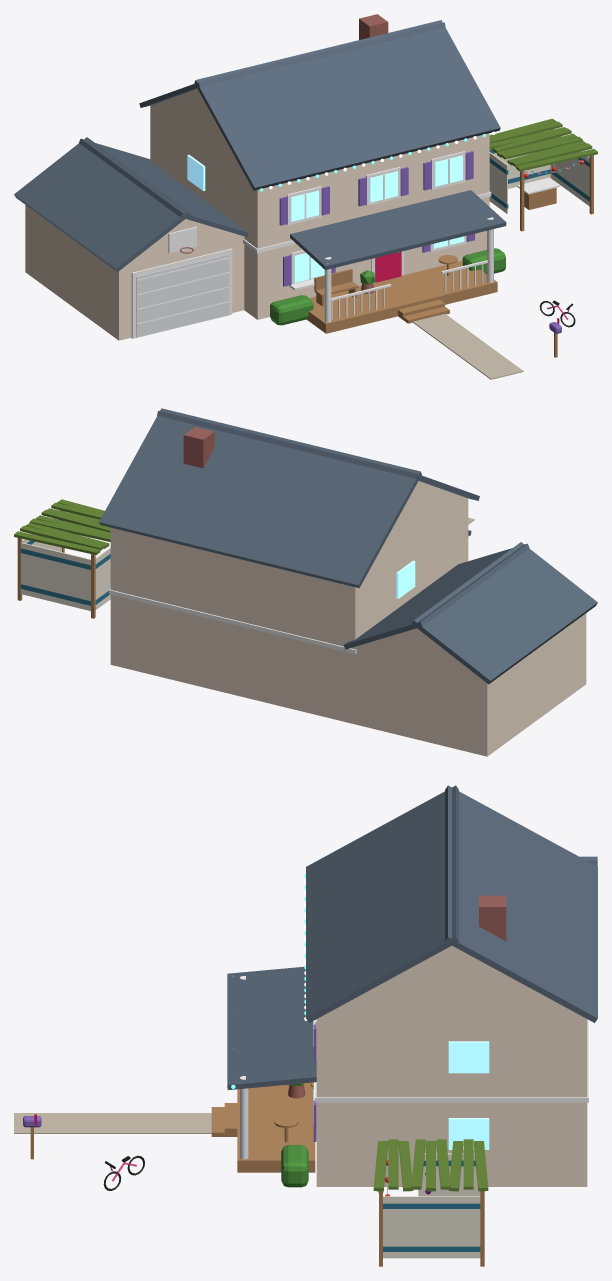
Rendered from world_home.glb.
3 renders of one model, top to bottom at view 1: azimuth 30°, elevation 25°; view 2: azimuth 150°, elevation 25°; view 3: azimuth 270°, elevation 25°, orthographic. The views are drawn at different scales.
Parts seen in each view (by area): view 1: WorldHome_body, Deco_sukkah; view 2: WorldHome_body, Deco_sukkah; view 3: WorldHome_body, Deco_sukkah.
Boxes of the visible parts, x1,y1,x2,y2 form: WorldHome_body: (14, 14, 561, 379); Deco_sukkah: (489, 118, 597, 231); WorldHome_body: (99, 408, 597, 756); Deco_sukkah: (14, 499, 110, 618); WorldHome_body: (14, 785, 597, 1187); Deco_sukkah: (373, 1139, 488, 1266).
Bounding box in the file's own units: 21.36 × 8.55 × 17.25.
